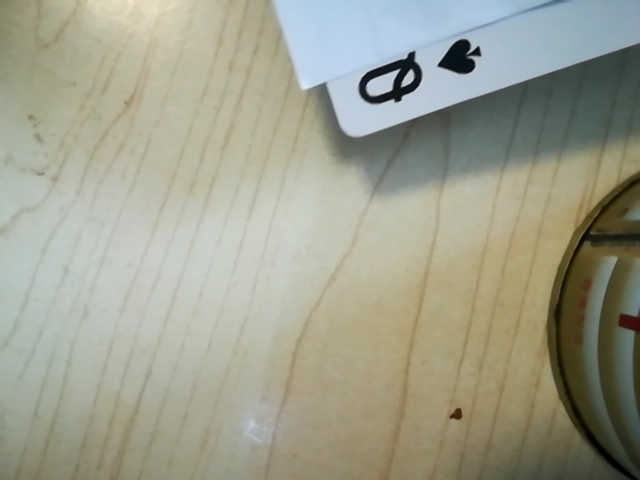ht q: (337, 26, 496, 125)
